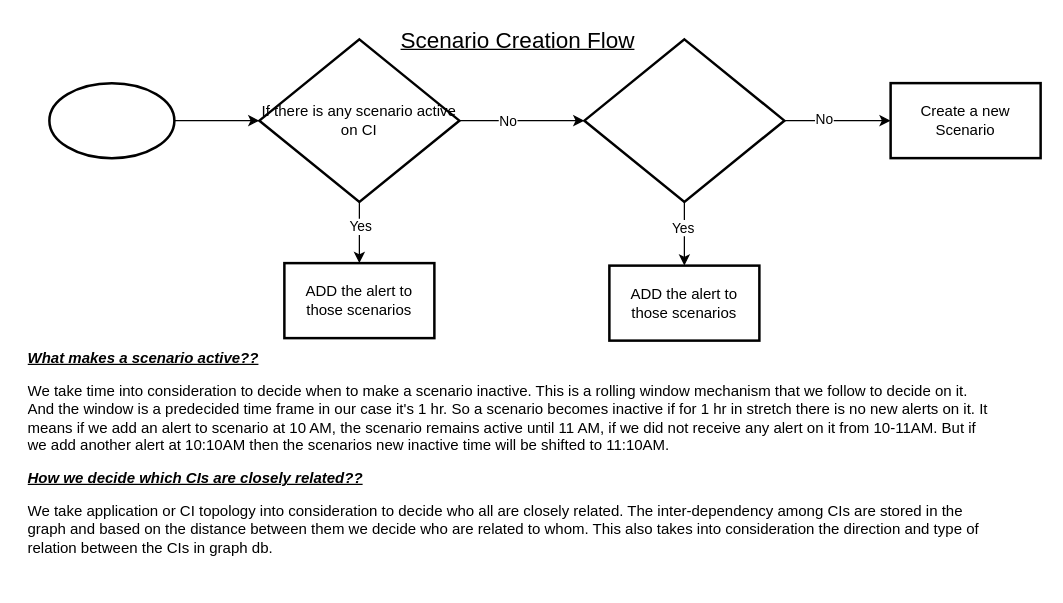
Image size: 1063x603. Some labels were removed from this diagram. The centre of each missing label's shape, as x and y in pixels:
"If there is any scenario active on Closely related scenario" belongs at (683,120).
"Take the CI from alert and Check" belongs at (111,120).
